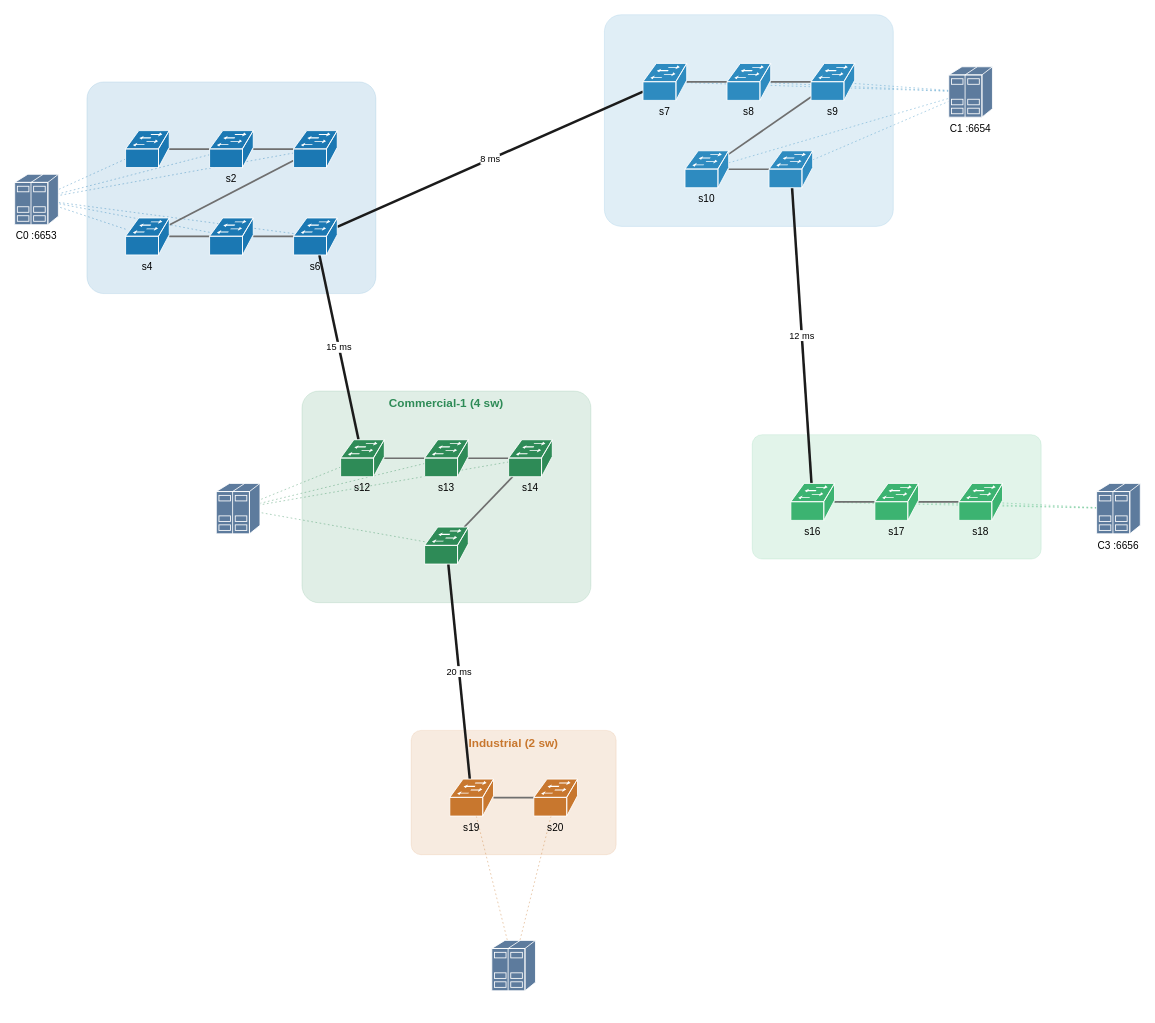
Some shapes in this 1155 by 1023 pixel diagram are drawn without their labels. The shapes that lost their labels are listed below. From the top down, each one's box as (x1, y1, x2, y2) in pixels, then its label:
(604, 14, 893, 226): Residential-2 (5 sw)
(125, 130, 169, 168): s1
(293, 130, 337, 168): s3
(768, 150, 813, 188): s11
(86, 81, 376, 294): Residential-1 (6 sw)
(209, 217, 253, 255): s5
(215, 483, 260, 534): C2 :6655
(751, 434, 1041, 559): Commercial-2 (3 sw)
(424, 526, 468, 564): s15
(491, 940, 536, 991): C4 :6657
